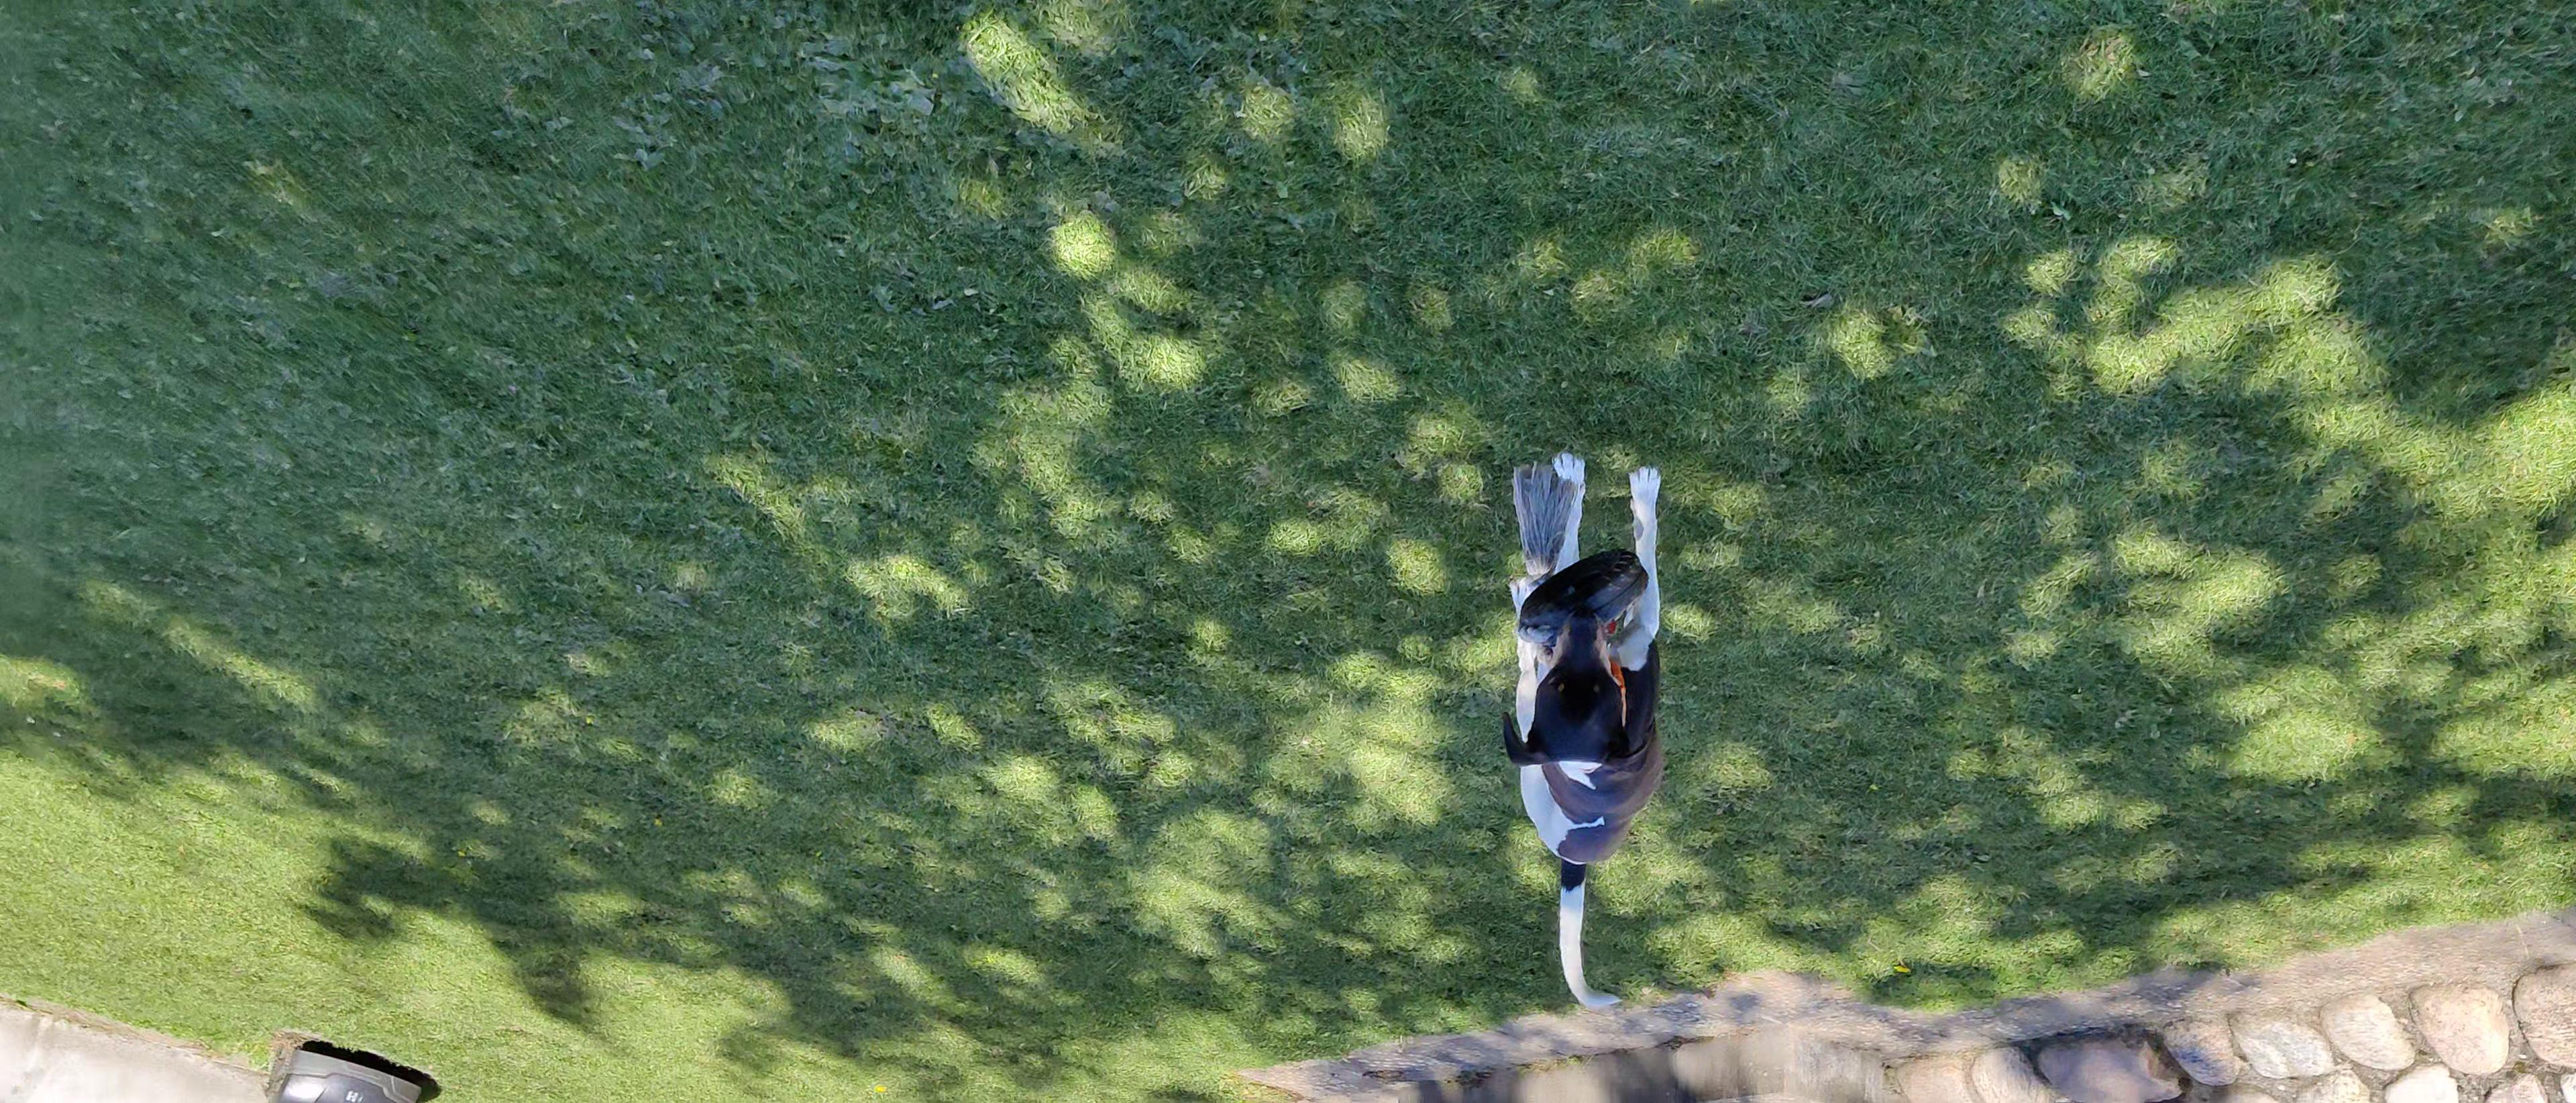Dog: (1464, 409, 1704, 1022)
